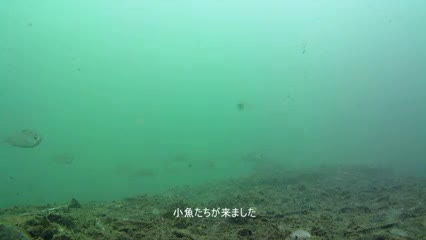smallfish: (6, 125, 45, 154)
